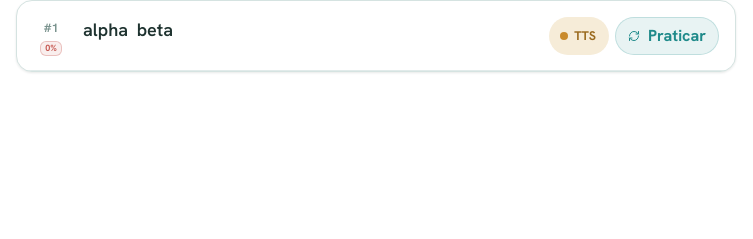
Scenario: EntryCard — cache do lookup de palavra › reclicar a mesma palavra usa o cache (não re-consulta a IA)
Click the text titled "Clique para ouvir e ver" at (106, 30), box [81,18,130,41]
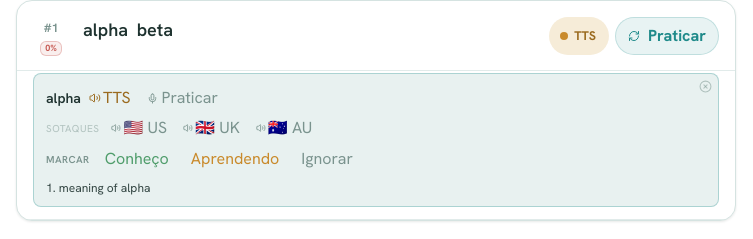
Check: the list item "meaning of alpha" is shown, box [59,180,150,196]
Click the text titled "Clique para ouvir e ver" at (155, 30), box [135,18,175,41]
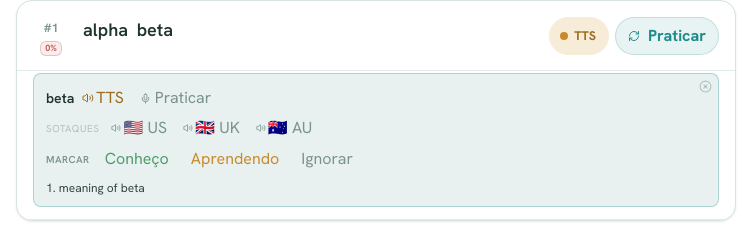
Check: the list item "meaning of beta" is shown, box [59,180,145,196]
Click the text titled "Clique para ouvir e ver" at (106, 30), box [81,18,130,41]
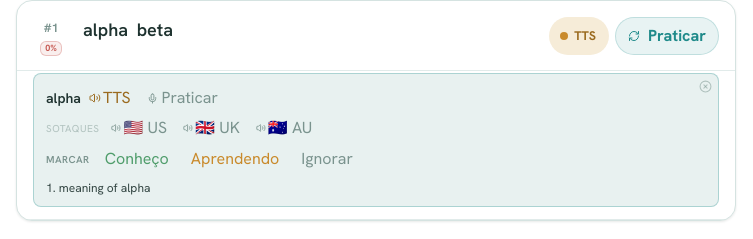
Check: the list item "meaning of alpha" is shown, box [59,180,150,196]
